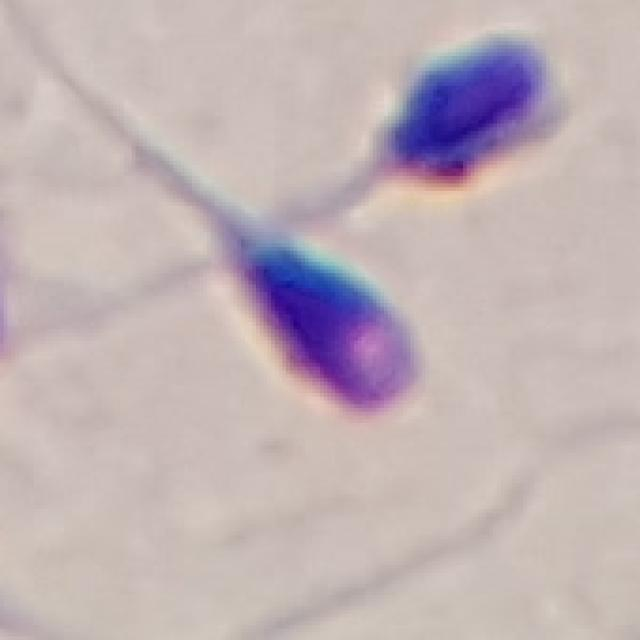normal sperm: (156, 202, 442, 420), (306, 22, 600, 196)
